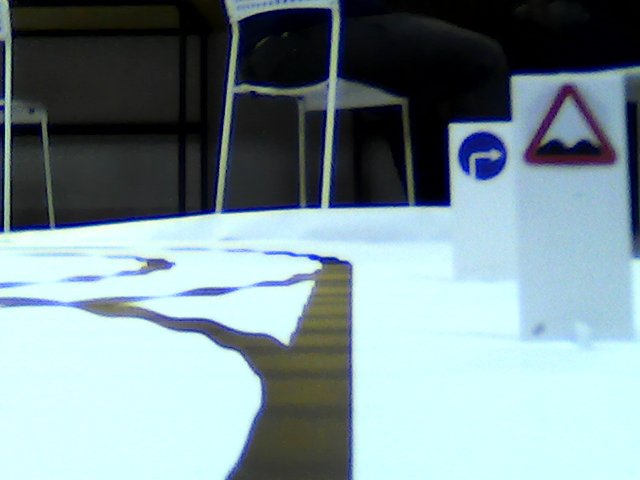Nerov: (523, 80, 619, 171)
Right: (456, 131, 510, 181)
